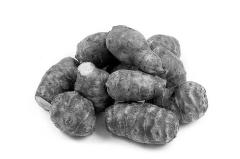organic: (110, 98, 184, 148), (110, 22, 166, 76), (71, 54, 113, 110)
